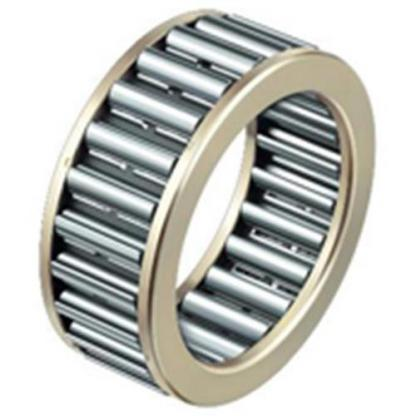FOD: (29, 6, 386, 408)
